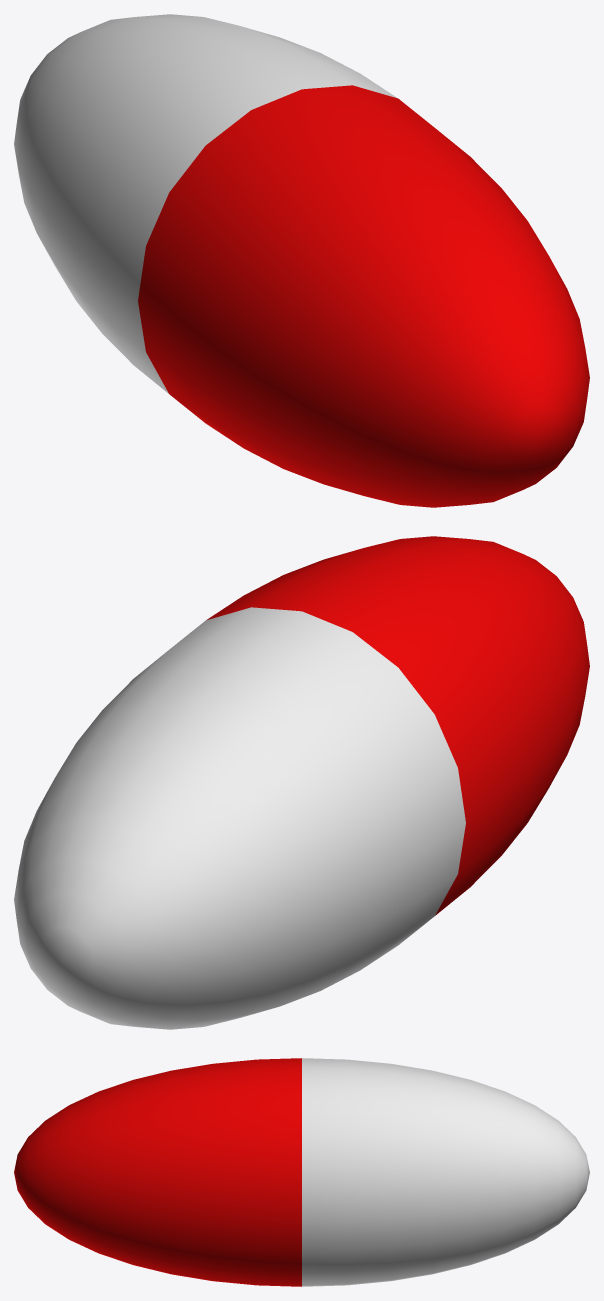
File: Pill.fbx
The picture shows the model from 3 angles, top to bottom: view 1: azimuth 30°, elevation 25°; view 2: azimuth 150°, elevation 25°; view 3: azimuth 270°, elevation 25°; orthographic projection. The views are drawn at different scales.
Parts seen in each view (by area): view 1: pSphere1; view 2: pSphere1; view 3: pSphere1.
Part boxes in pixels (x1,y1,x2,y2): pSphere1: (14,14,589,507); pSphere1: (14,536,589,1029); pSphere1: (14,1058,589,1286).
Bounding box in the file's own units: 20 × 20 × 50.
